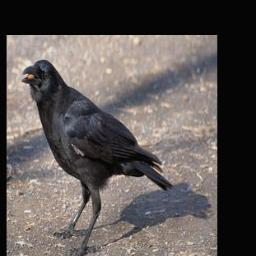Crow: (21, 57, 173, 256)
